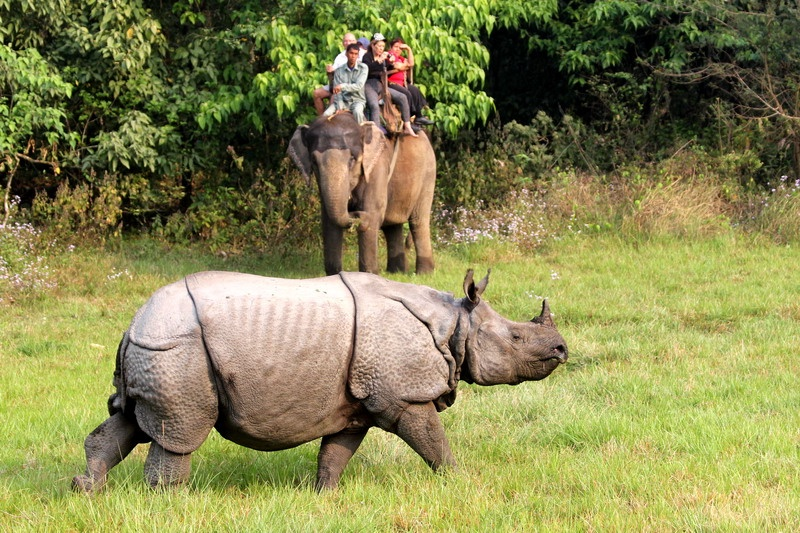elephant: (284, 101, 437, 275)
rhino: (74, 271, 574, 494)
